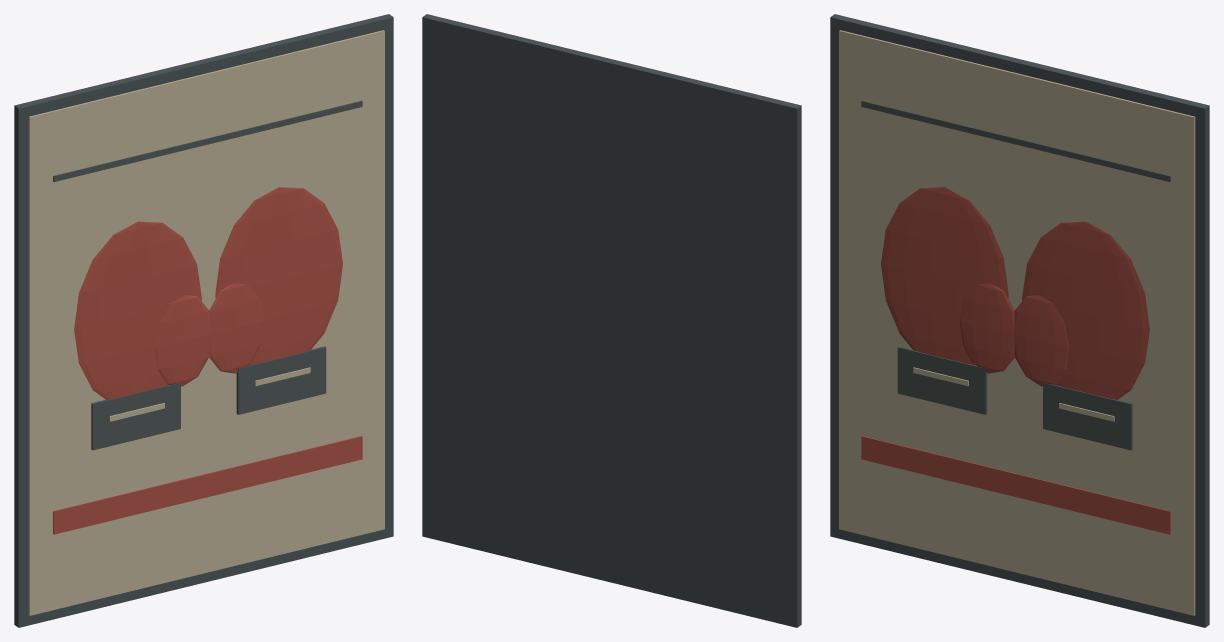
The model's file is poster.glb.
The picture shows the model from 3 angles, left to right: view 1: azimuth 30°, elevation 25°; view 2: azimuth 150°, elevation 25°; view 3: azimuth 330°, elevation 25°; orthographic projection.
Parts seen in each view (by area): view 1: poster_Paper, poster_Red, poster_Steel, poster_Ink; view 2: poster_Steel; view 3: poster_Paper, poster_Red, poster_Steel, poster_Ink.
Part boxes in pixels (x1,y1,x2,y2): poster_Paper: [28, 30, 384, 615]; poster_Red: [53, 187, 362, 534]; poster_Steel: [14, 14, 393, 627]; poster_Ink: [53, 100, 362, 450]; poster_Steel: [422, 14, 801, 627]; poster_Paper: [839, 30, 1195, 615]; poster_Red: [861, 187, 1170, 534]; poster_Steel: [830, 14, 1209, 627]; poster_Ink: [861, 100, 1170, 450].
Bounding box in the file's own units: 1.7 × 2.25 × 0.067.
